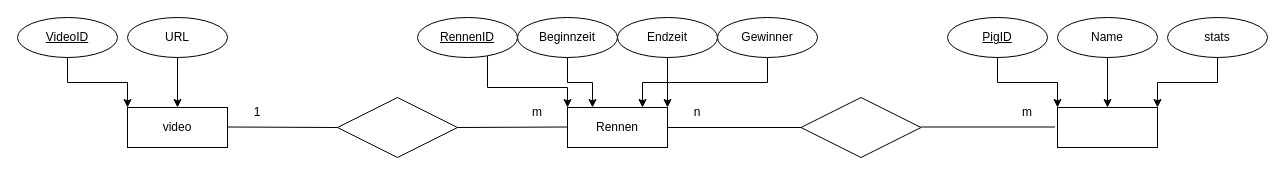
This 1285x175 diagram has some shape labels left out. Each missing label, with the box of its shape:
schweine: (1056, 106, 1158, 148)
Teilnehmer: (800, 96, 921, 158)
Timestamp: (336, 96, 458, 158)
